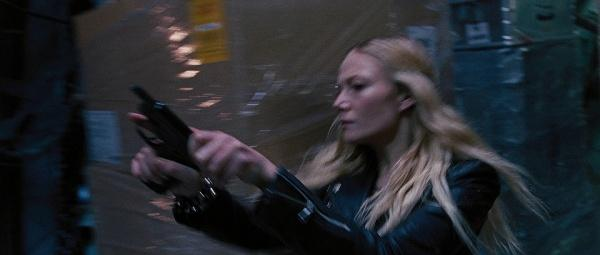Gun: (127, 82, 205, 193)
